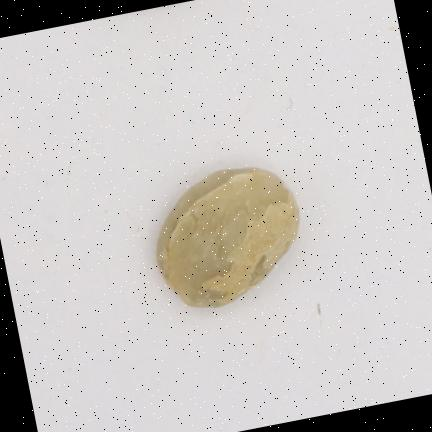immature: (157, 168, 300, 307)
